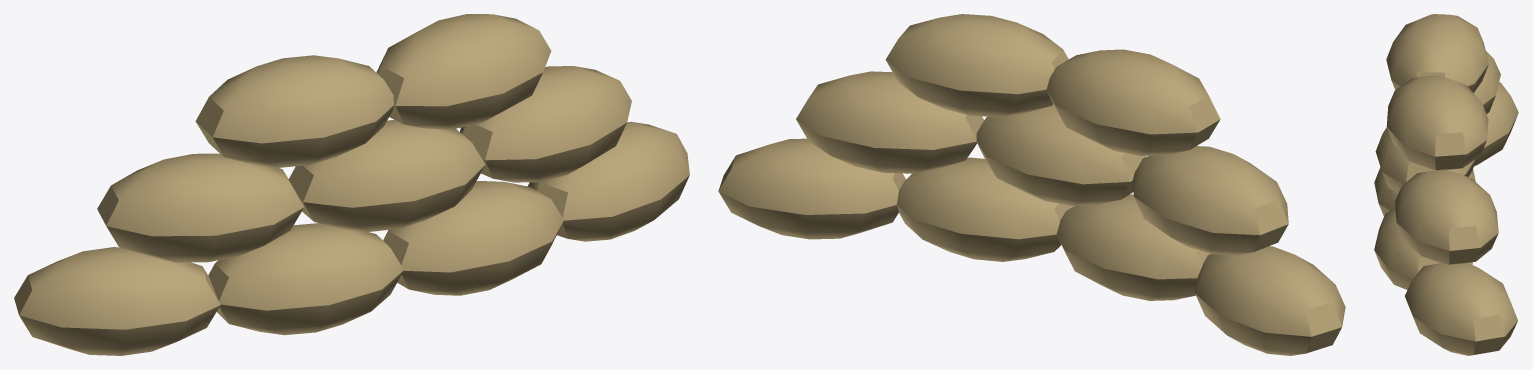
File: Sandbags.fbx
The picture shows the model from 3 angles, left to right: view 1: azimuth 30°, elevation 25°; view 2: azimuth 150°, elevation 25°; view 3: azimuth 270°, elevation 25°; orthographic projection. The views are drawn at different scales.
Visible parts, largest first — view 1: Sandbags; view 2: Sandbags; view 3: Sandbags.
Part boxes in pixels (box(x1,y1,x2,y2)): Sandbags: box(14, 14, 689, 355); Sandbags: box(718, 14, 1345, 355); Sandbags: box(1374, 14, 1518, 355).
Size of the model in its own units: 1.95 by 0.71 by 0.4758.
